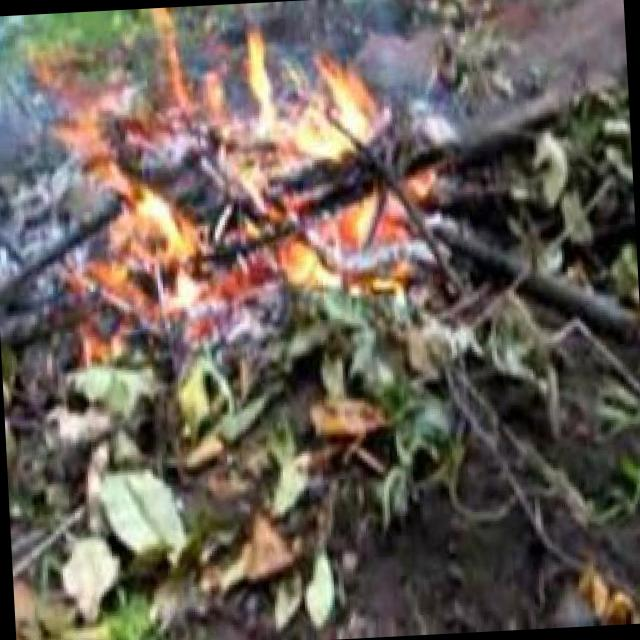Fire: (8, 0, 458, 381)
